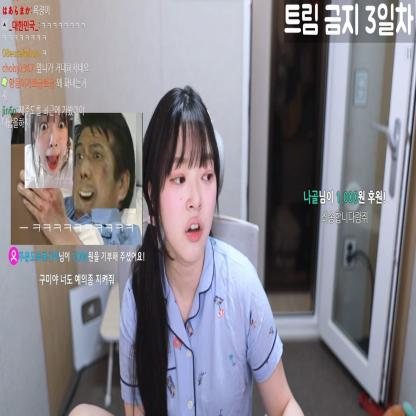donation: (8, 112, 145, 286), (303, 189, 386, 224)
streamer: (119, 86, 305, 416)
